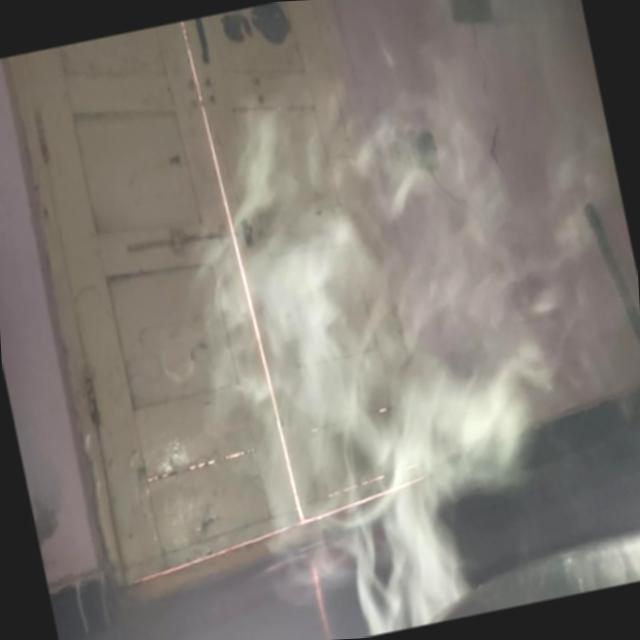smoke: (260, 137, 608, 610)
